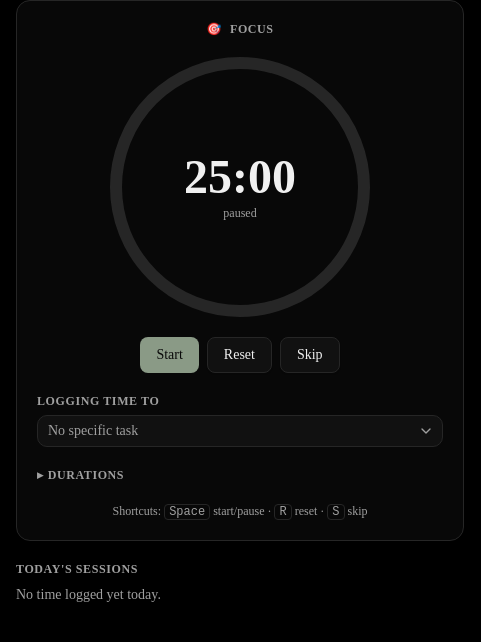
Test: FocusTimer session persistence › keeps counting in real time while the tab is hidden (timestamp-anchored)
Click the button "Start": [170, 355] box x1=140 y1=337 x2=199 y2=373
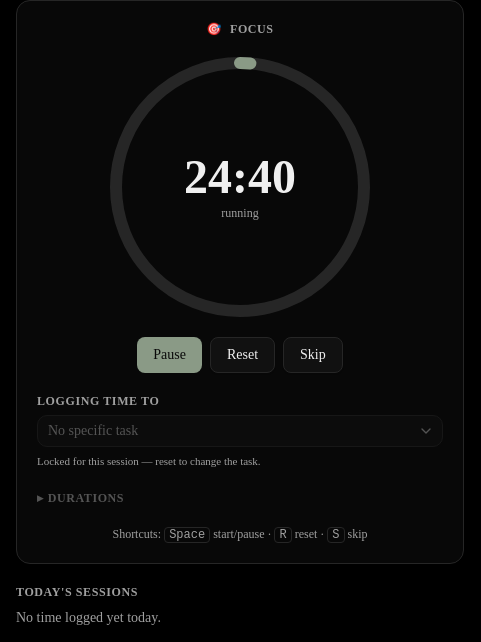
Expected: the text "24:40" is shown, x1=184 y1=153 x2=296 y2=201
